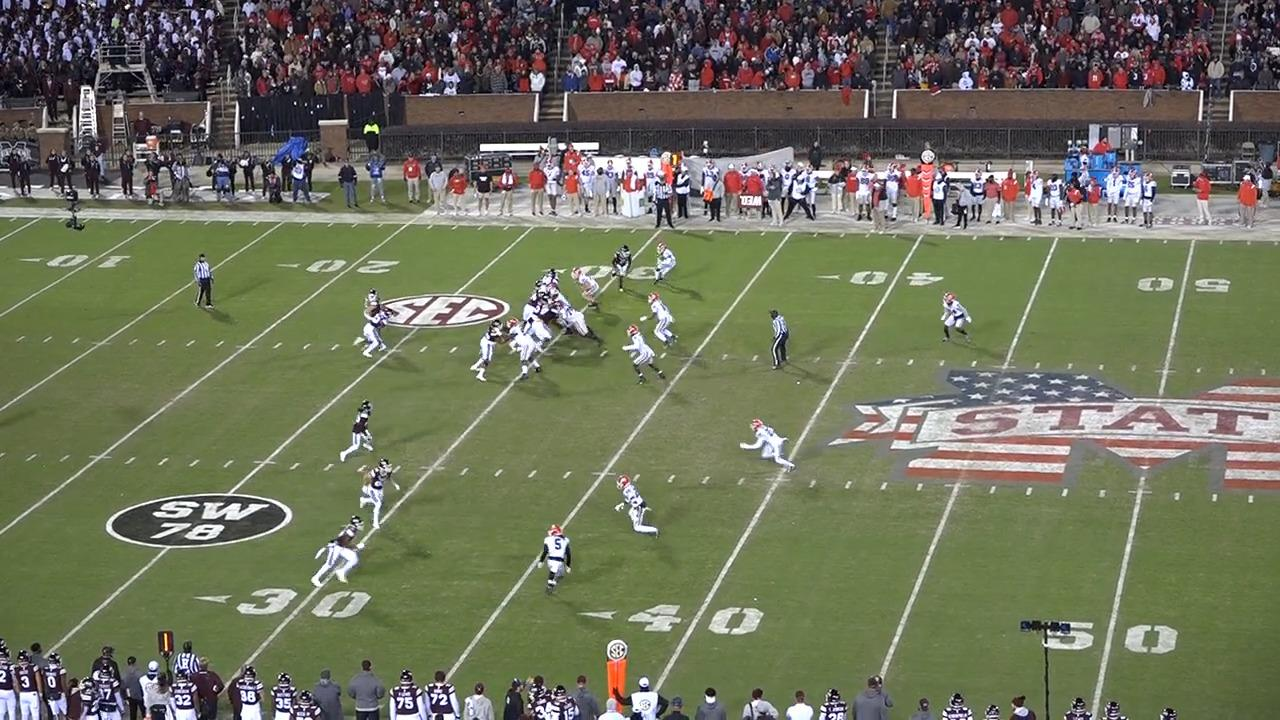player: (313, 512, 372, 587), (353, 459, 398, 534), (611, 473, 660, 539), (747, 415, 796, 473), (536, 523, 573, 596), (621, 325, 665, 386), (341, 398, 381, 465), (552, 300, 608, 346), (469, 319, 509, 381), (506, 319, 540, 379), (644, 296, 680, 352), (944, 293, 978, 347), (360, 306, 394, 360), (363, 284, 388, 343), (532, 302, 558, 354), (572, 267, 600, 313), (607, 242, 631, 293), (656, 240, 680, 288), (523, 285, 550, 324), (523, 296, 548, 332), (546, 282, 571, 308), (534, 268, 559, 285)
ref: (188, 255, 215, 314), (767, 306, 791, 371), (649, 176, 673, 231), (172, 640, 202, 682)
